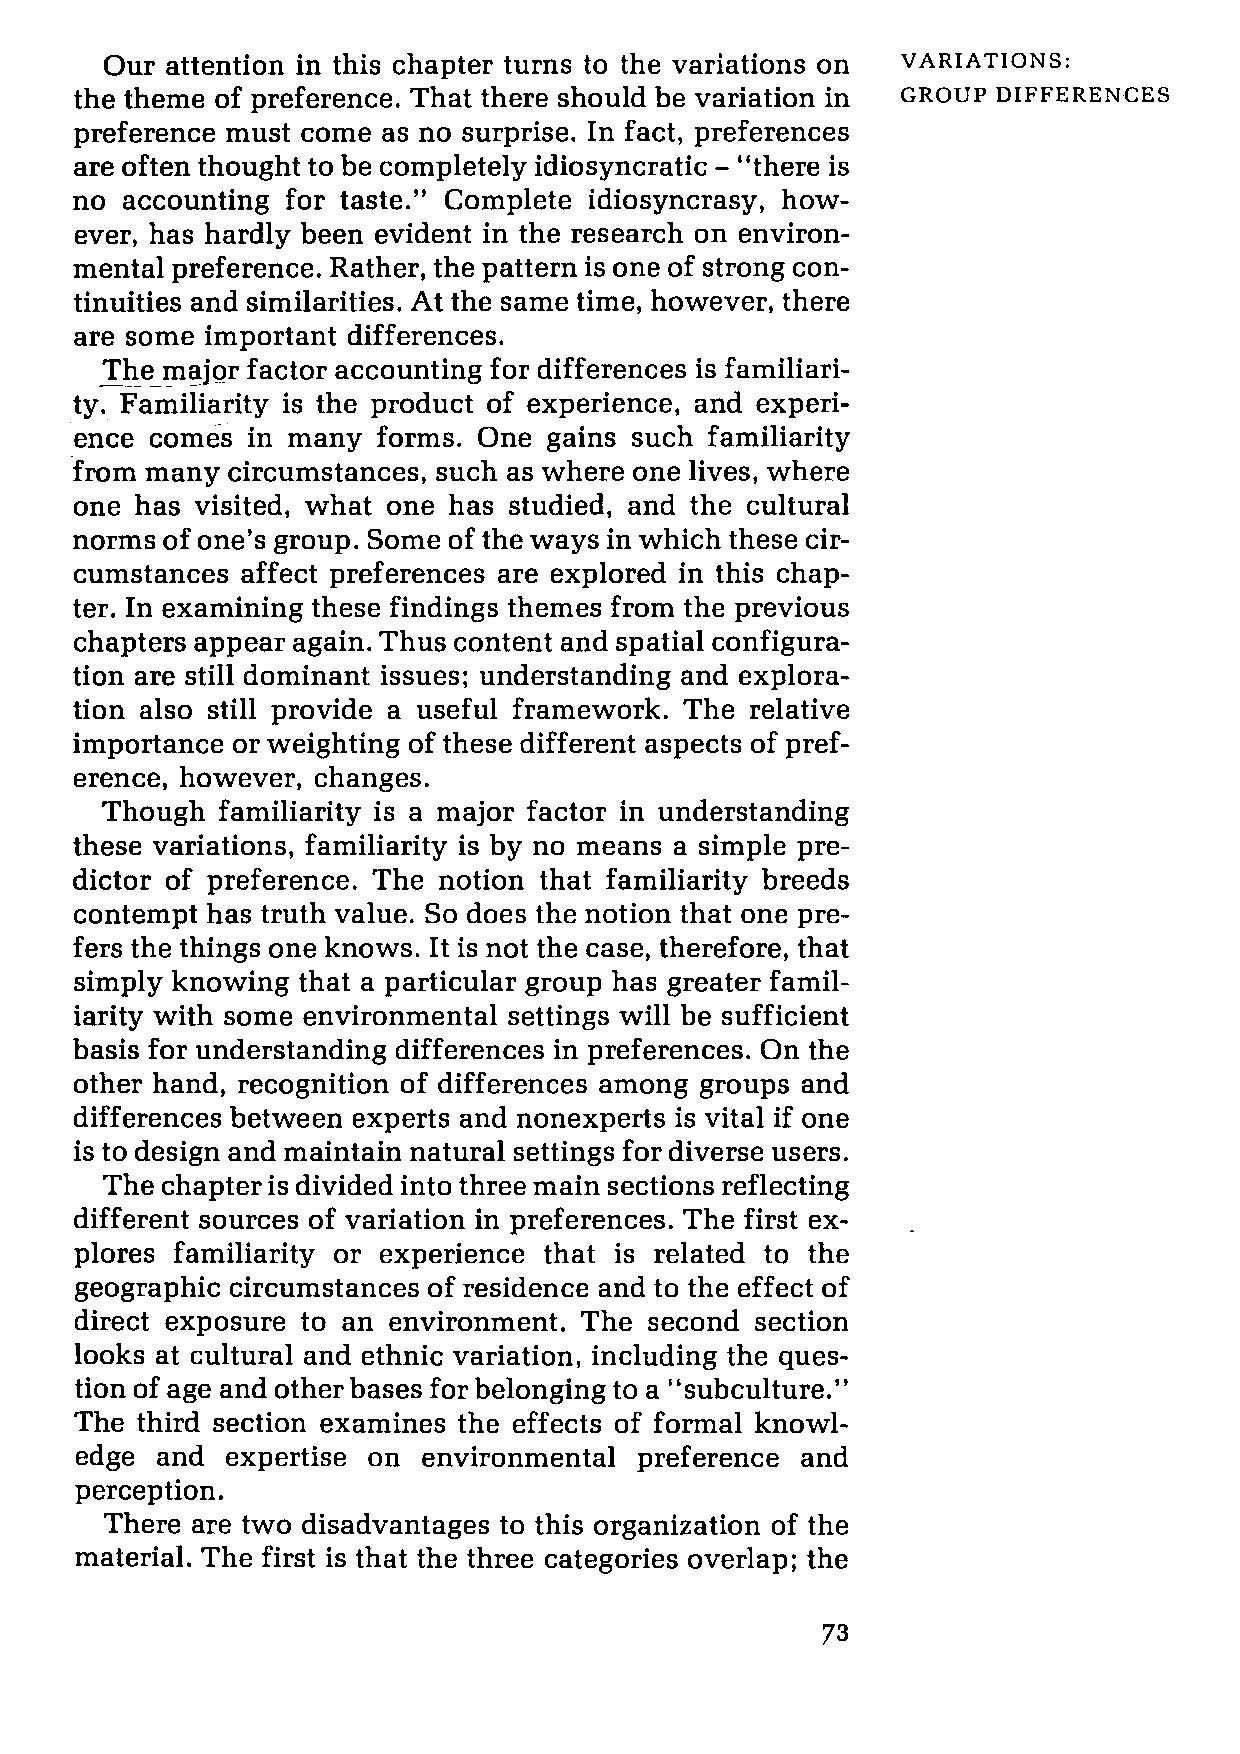content: (64, 50, 858, 1574)
content_pagenumber: (815, 1618, 854, 1645)
